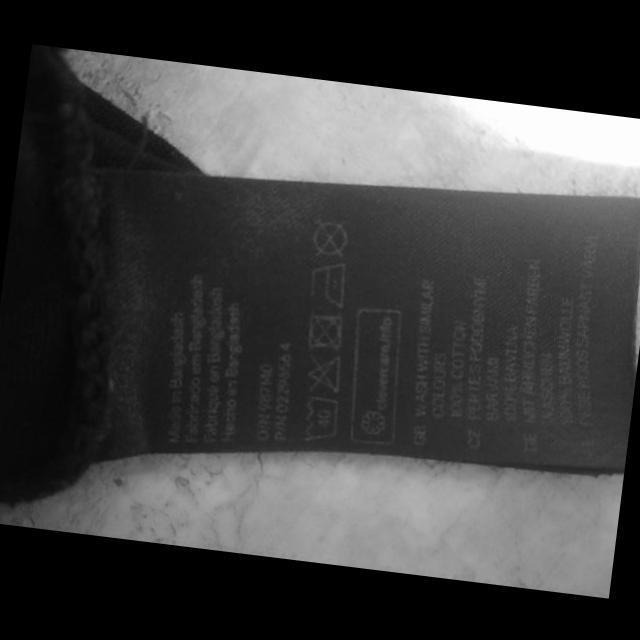40C: (299, 392, 343, 446)
DN_bleach: (302, 349, 346, 395)
DN_dry_clean: (308, 213, 352, 260)
DN_tumble_dry: (304, 305, 346, 354)
iron_medium: (306, 257, 350, 308)
